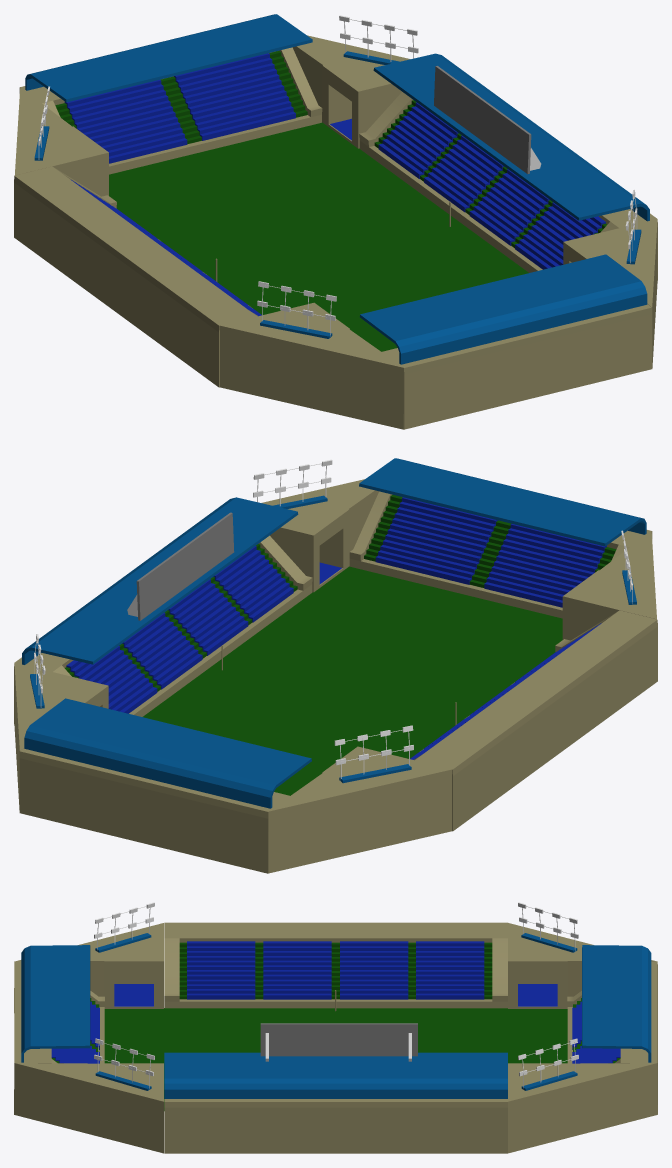
Rendered from stadium2.FBX.
3 views of the same model, one above another, from view 1: azimuth 30°, elevation 25°; view 2: azimuth 150°, elevation 25°; view 3: azimuth 270°, elevation 25° (orthographic). The views are drawn at different scales.
Visible parts, largest first — view 1: Box177, Box166, Box165, Box189, Box169, Box187, Box192, Line028, Box162, Line039, Box168, Box181 (+9 smaller); view 2: Box177, Box166, Box176, Box192, Box168, Box187, Box189, Line029, Box167, Line035, Box169, Box181 (+9 smaller); view 3: Box164, Box177, Box187, Box166, Box162, Box167, Box192, Box189, Box181, Box169, Box168, Line032 (+11 smaller).
Part boxes in pixels (x1,y1,x2,y2): Box177: [109, 122, 528, 351]; Box166: [14, 166, 257, 387]; Box165: [382, 304, 652, 429]; Box189: [359, 254, 647, 364]; Box169: [220, 302, 404, 429]; Box187: [373, 53, 649, 221]; Box192: [25, 14, 312, 102]; Line028: [174, 53, 295, 140]; Box162: [292, 35, 410, 148]; Line039: [64, 79, 187, 163]; Box168: [14, 87, 108, 196]; Box181: [434, 66, 531, 174]; Box177: [143, 566, 562, 795]; Box166: [414, 610, 657, 831]; Box176: [19, 748, 289, 873]; Box192: [24, 698, 311, 808]; Box168: [268, 746, 451, 873]; Box187: [22, 497, 298, 664]; Box189: [359, 458, 646, 546]; Line029: [375, 497, 497, 584]; Box167: [261, 479, 378, 592]; Line035: [484, 524, 606, 607]; Box169: [562, 531, 656, 640]; Box181: [136, 512, 234, 620]; Box164: [164, 1099, 507, 1153]; Box177: [104, 1008, 567, 1110]; Box187: [164, 1052, 507, 1098]; Box166: [164, 922, 507, 1008]; Box162: [508, 1063, 657, 1153]; Box167: [14, 1063, 163, 1153]; Box192: [582, 945, 651, 1062]; Box189: [21, 945, 90, 1062]; Box181: [260, 1023, 417, 1056]; Box169: [14, 923, 163, 1012]; Box168: [508, 923, 657, 1008]; Line032: [340, 941, 408, 999].
Bounding box in the file's own units: 268 × 70.44 × 406.
